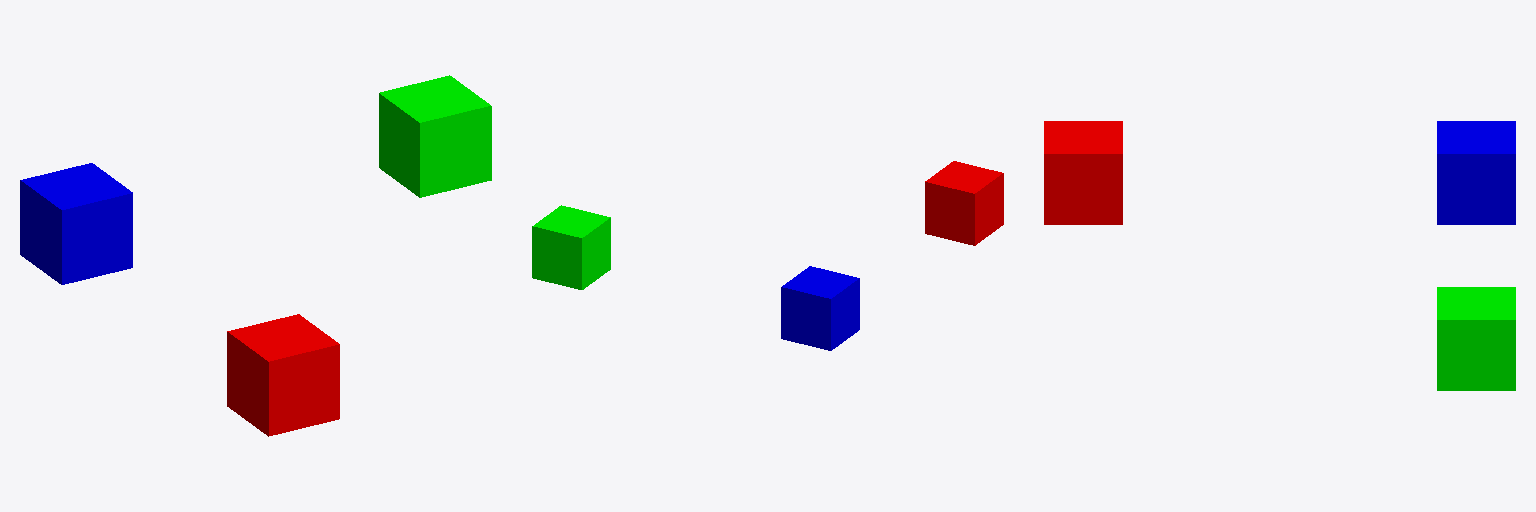
URDF robot description (tf_boxes):
<?xml version="1.0"?>
<robot name="tf_boxes">

  <link name="world"/>

  <!-- Cube TF1 -->
  <link name="tf1_link">
    <visual>
      <geometry>
        <box size="0.2 0.2 0.2"/>
      </geometry>
      <material name="red">
        <color rgba="1 0 0 1"/>
      </material>
    </visual>
  </link>
  <joint name="world_to_tf1" type="fixed">
    <parent link="world"/>
    <child link="tf1_link"/>
    <origin xyz="0 0 0" rpy="0 0 0"/>
  </joint>
  


  <!-- Cube TF2 -->
  <link name="tf2_link">
    <visual>
      <geometry>
        <box size="0.2 0.2 0.2"/>
      </geometry>
      <material name="green">
        <color rgba="0 1 0 1"/>
      </material>
    </visual>
  </link>
  <joint name="world_to_tf2" type="continuous">
    <parent link="world"/>
    <child link="tf2_link"/>
    <origin xyz="1 1 0" rpy="0 0 0"/>
  </joint>





  <!-- Cube TF3 -->
  <link name="tf3_link">
    <visual>
      <geometry>
        <box size="0.2 0.2 0.2"/>
      </geometry>
      <material name="blue">
        <color rgba="0 0 1 1"/>
      </material>
    </visual>
  </link>
  <joint name="world_to_tf3" type="fixed">
    <parent link="world"/>
    <child link="tf3_link"/>
    <origin xyz="0 1 0" rpy="0 0 0"/>
  </joint>

  <!-- Cube TF4 -->
  <link name="tf4_link">
    <visual>
      <geometry>
        <box size="0.2 0.2 0.2"/>
      </geometry>
      <material name="yellow">
        <color rgba="1 1 0 1"/>
      </material>
    </visual>
  </link>
  <joint name="world_to_tf4" type="fixed">
    <parent link="world"/>
    <child link="tf4_link"/>
    <origin xyz="1 1 0" rpy="0 0 0"/>
  </joint>

</robot>

--- What the picture shows (computed from the rendered views, not written in the file) ---
The picture shows the robot from 3 angles, left to right: view 1: azimuth 30°, elevation 25°; view 2: azimuth 150°, elevation 25°; view 3: azimuth 270°, elevation 25°; orthographic projection.
Robot: tf_boxes — 5 links, 4 joints (1 continuous, 3 fixed); root link world; default pose: all joints at 0.
Visible links, largest first — view 1: tf1_link, tf2_link, tf3_link; view 2: tf1_link, tf2_link, tf3_link; view 3: tf1_link, tf2_link, tf3_link.
Link boxes in pixels (x1,y1,x2,y2): tf1_link: (227, 314, 339, 436); tf2_link: (379, 75, 491, 197); tf3_link: (20, 163, 132, 284); tf1_link: (925, 161, 1003, 245); tf2_link: (532, 205, 610, 289); tf3_link: (781, 266, 859, 350); tf1_link: (1044, 121, 1122, 224); tf2_link: (1437, 287, 1515, 390); tf3_link: (1437, 121, 1515, 224).
Bounding box of the posed robot: 1.2 × 1.2 × 0.2 m (x, y, z).
Geometry: primitives only (box / cylinder / sphere), no mesh files.
